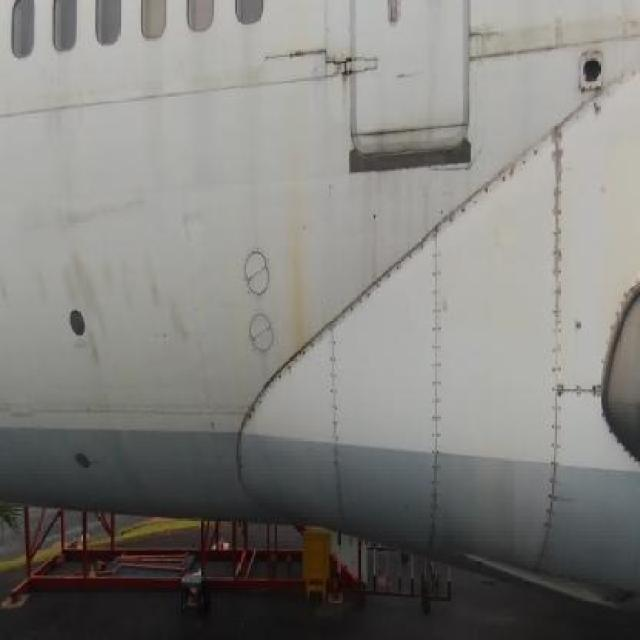Missing-Rivet: (547, 116, 567, 544), (338, 239, 427, 335), (444, 146, 542, 232), (424, 219, 448, 501), (322, 306, 349, 494), (255, 335, 319, 413), (568, 365, 602, 432)
Rust: (278, 121, 313, 365), (333, 49, 356, 123)
Scartch: (3, 245, 195, 393), (469, 5, 571, 94), (25, 179, 157, 232), (171, 180, 212, 258)
